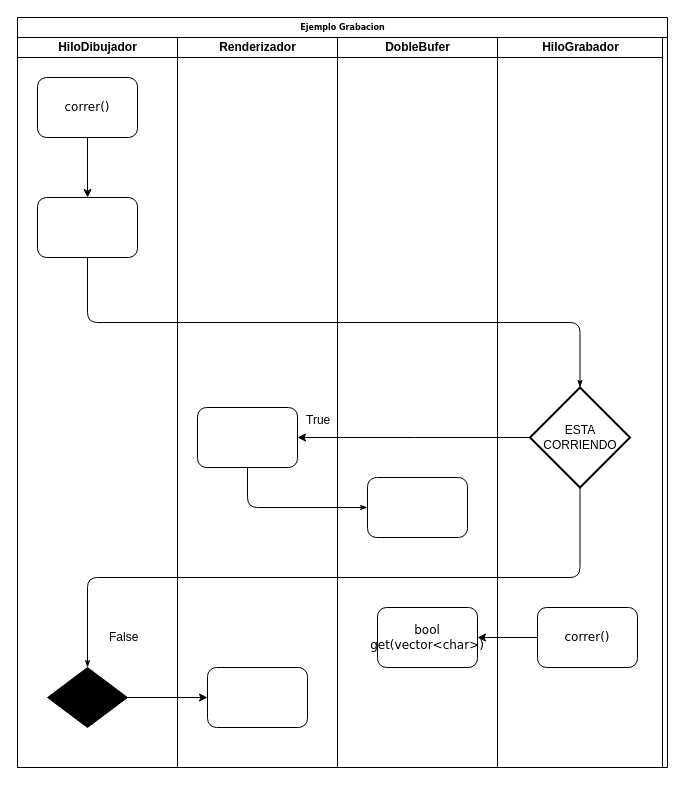
Some shapes in this 685 by 785 pixel diagram are drawn without their labels. Here are the shapes that lost their labels. From the top down, the centre of each, then its label:
At (87,227): "step(iteracion, escenaPartida)".
At (247,437): "dibujar(iteracion, escenaPartida, dobleBuffer)".
At (417,507): "set(vector<char>)".
At (257,697): "dibujar(iteracion, escenaPartida)".
